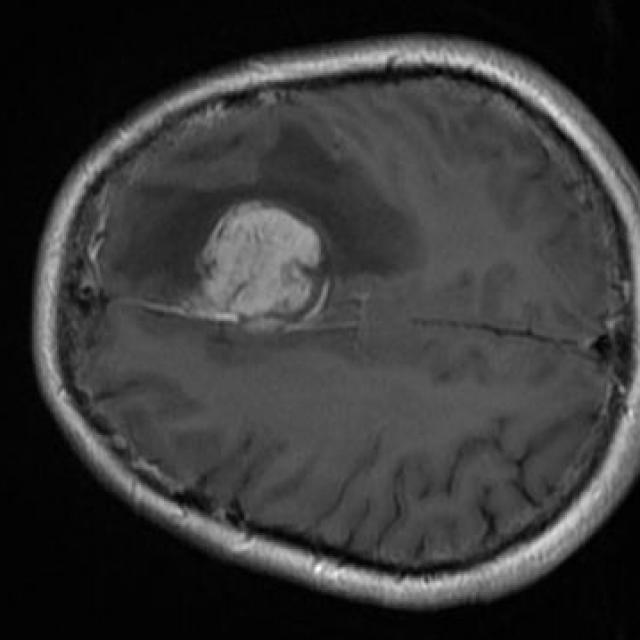meningioma: (203, 203, 319, 317)
